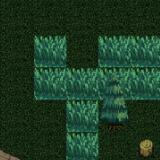Obstacle: (98, 100, 130, 132), (130, 133, 160, 160)
Slow: (66, 68, 160, 100), (34, 36, 66, 100), (98, 36, 160, 68), (66, 100, 99, 160)
